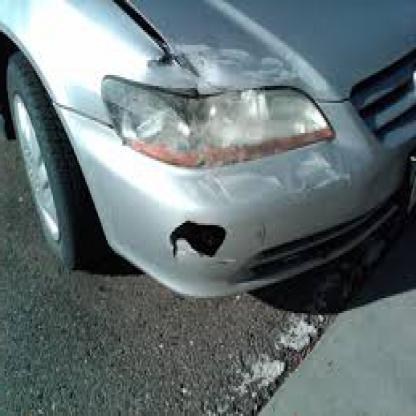dent: (160, 207, 232, 269)
